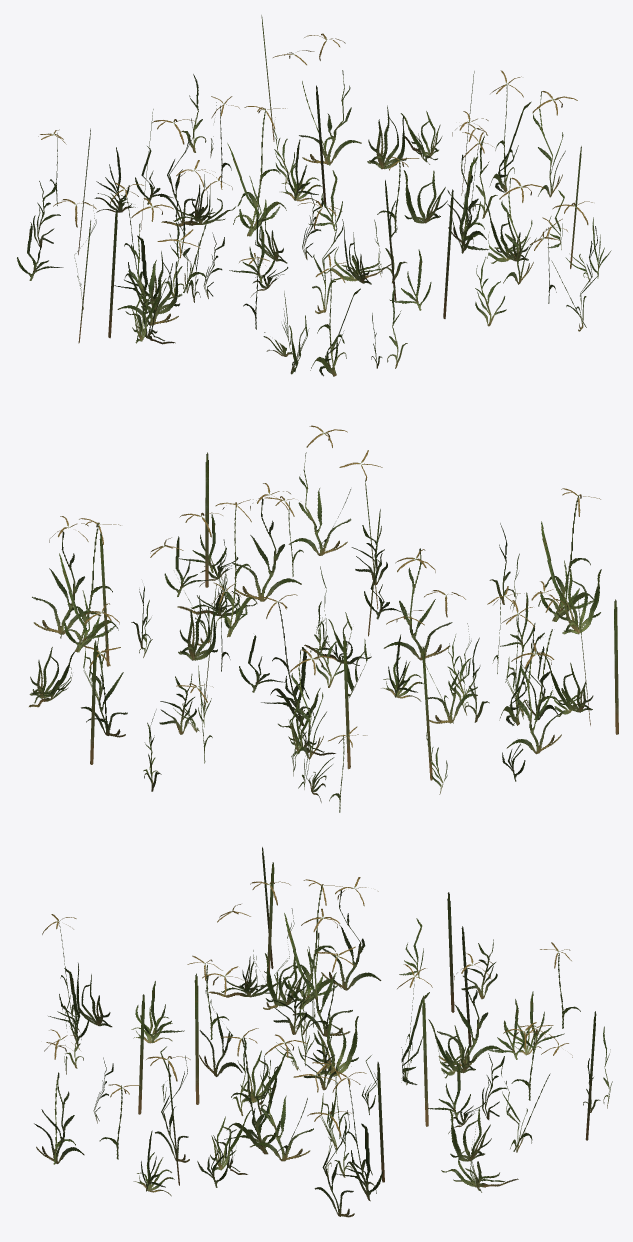
The model's file is grass_c.glb.
3 views of the same model, one above another, from view 1: azimuth 30°, elevation 25°; view 2: azimuth 150°, elevation 25°; view 3: azimuth 270°, elevation 25° (orthographic). The views are drawn at different scales.
Parts seen in each view (by area): view 1: grass_c; view 2: grass_c; view 3: grass_c.
Boxes of the visible parts, <box> form: grass_c: <box>17,15,611,376</box>; grass_c: <box>29,425,618,812</box>; grass_c: <box>34,847,612,1217</box>.
Bounding box in the file's own units: 0.6626 × 0.1625 × 0.6515.
Materials: 1 (1 with a texture image).
